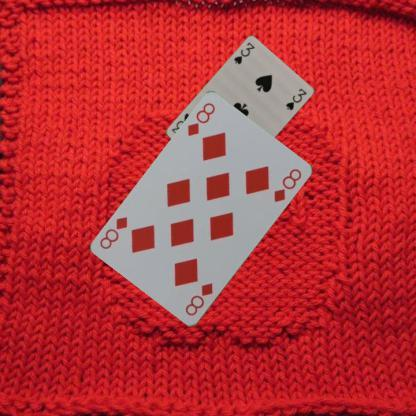3s: (231, 40, 256, 66)
8d: (184, 100, 217, 138), (183, 280, 214, 318)
